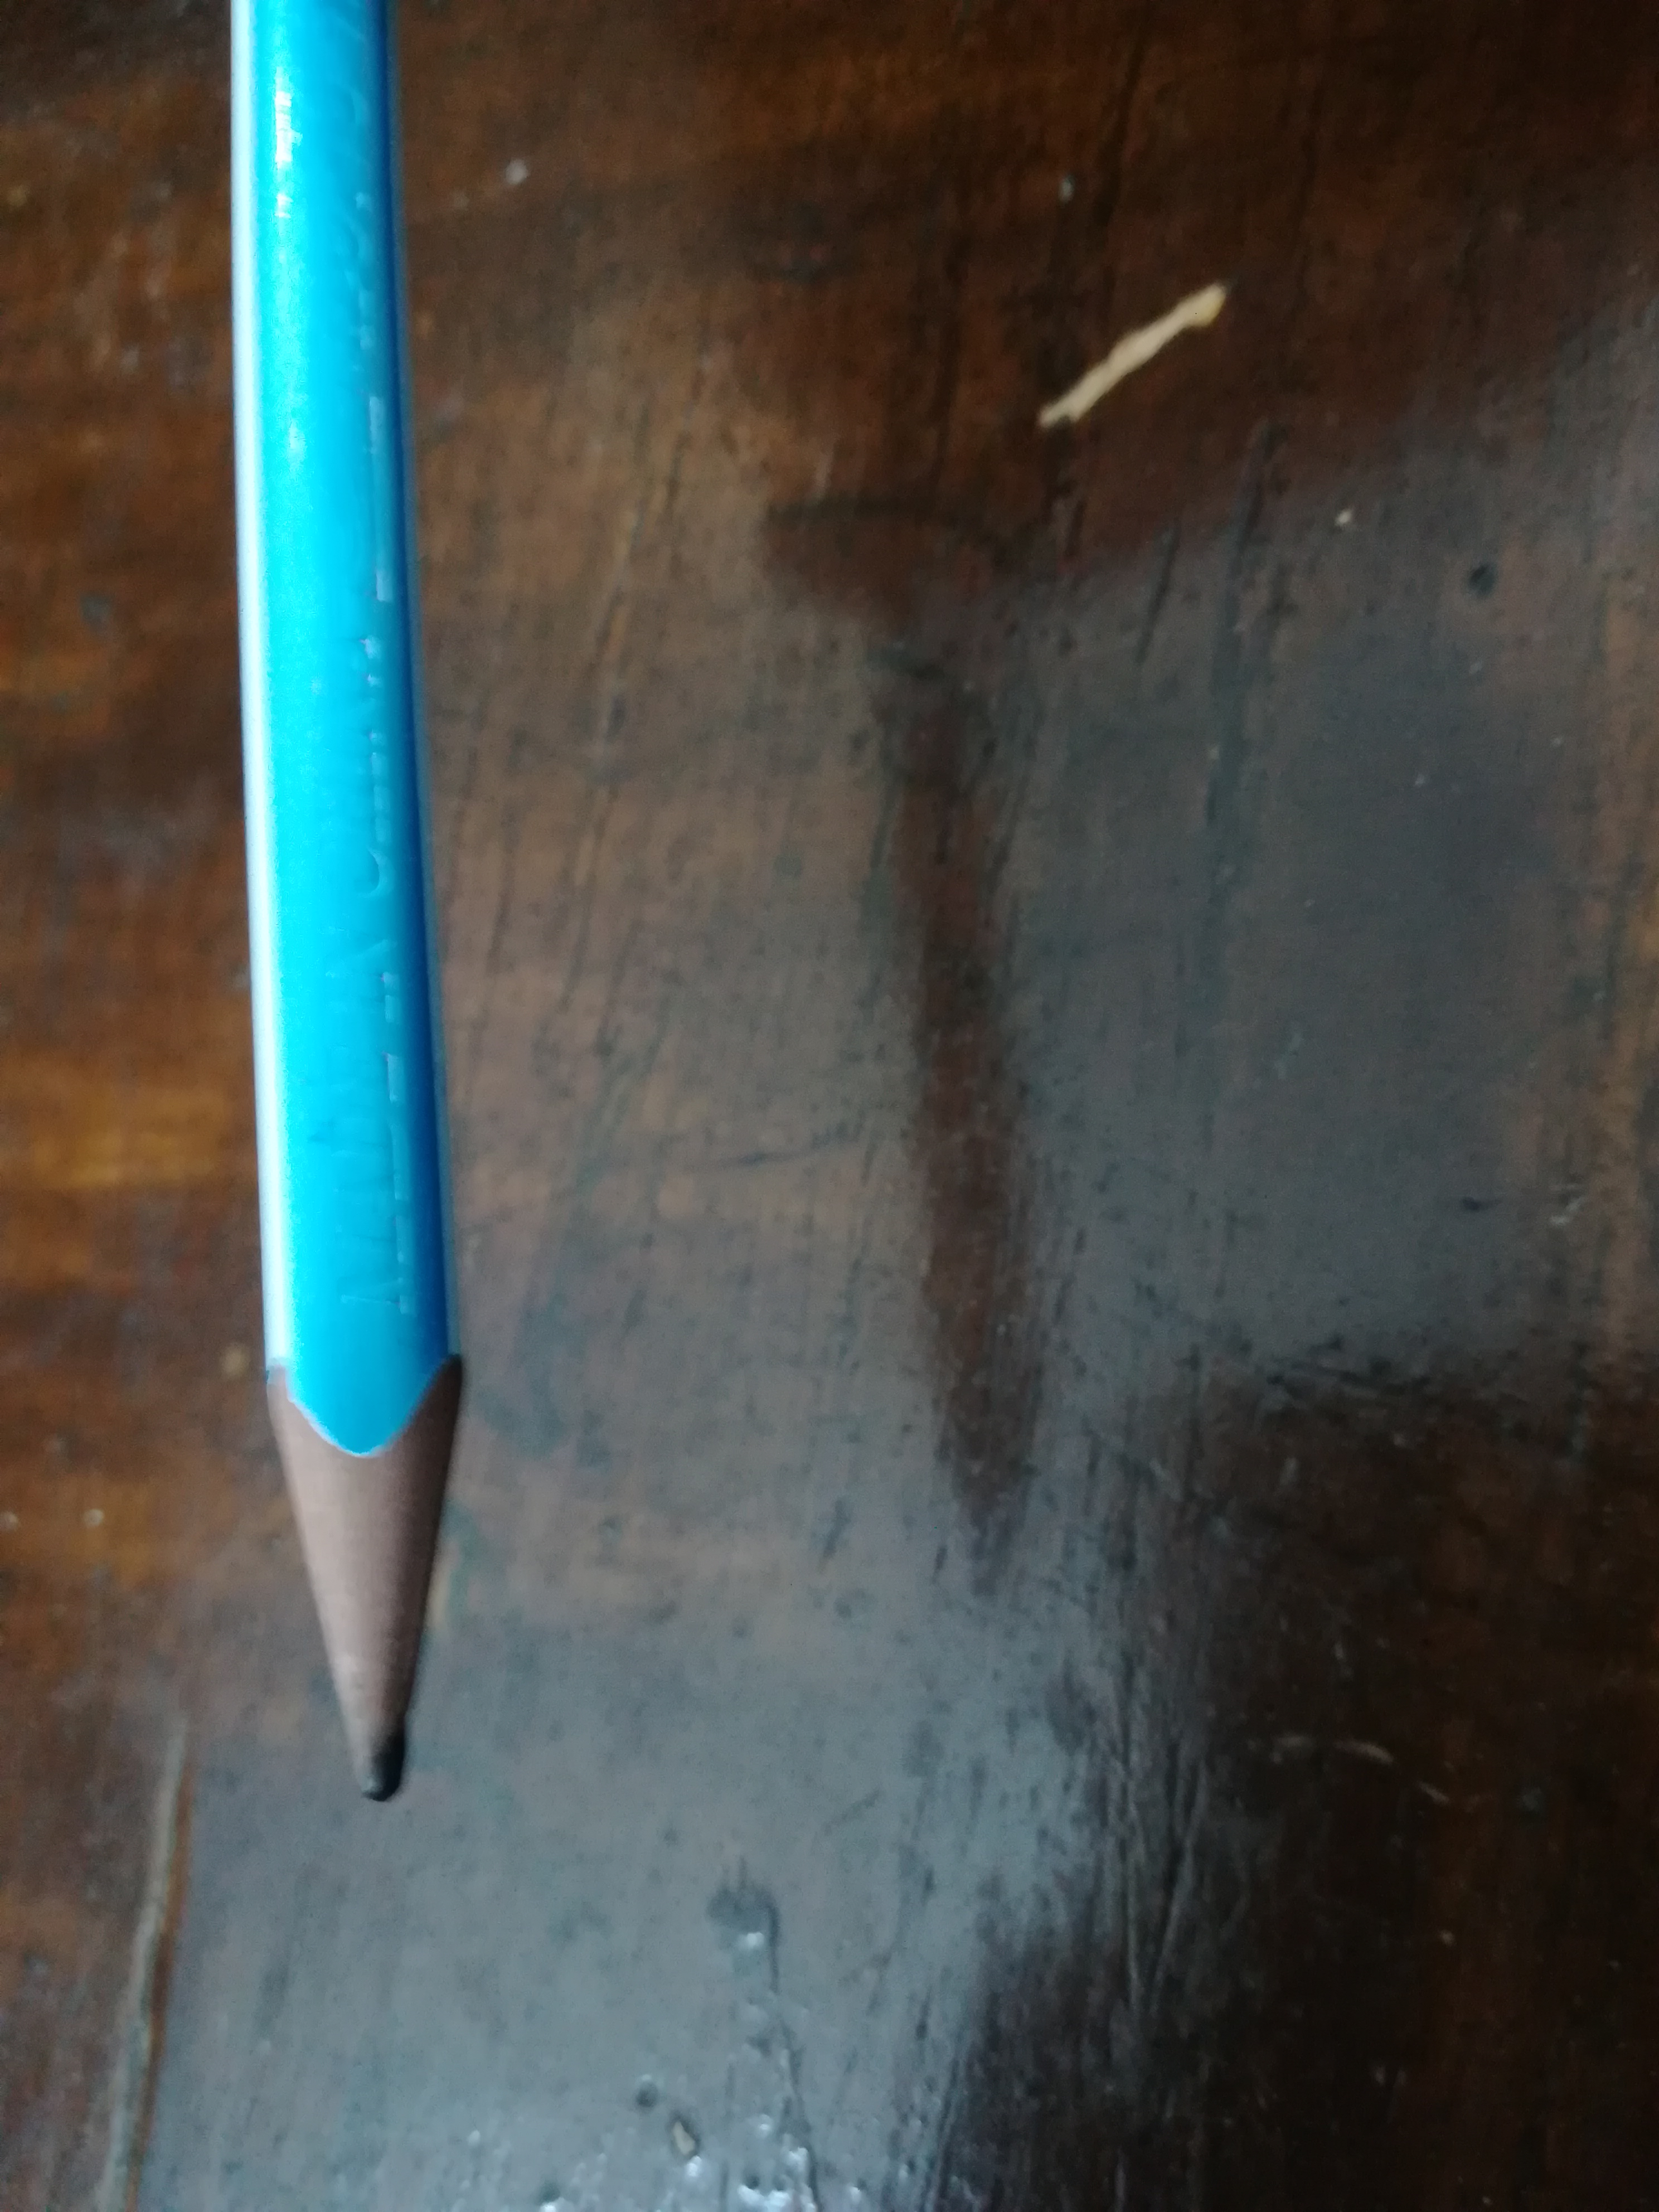pen_tip: (124, 1057, 688, 1831)
